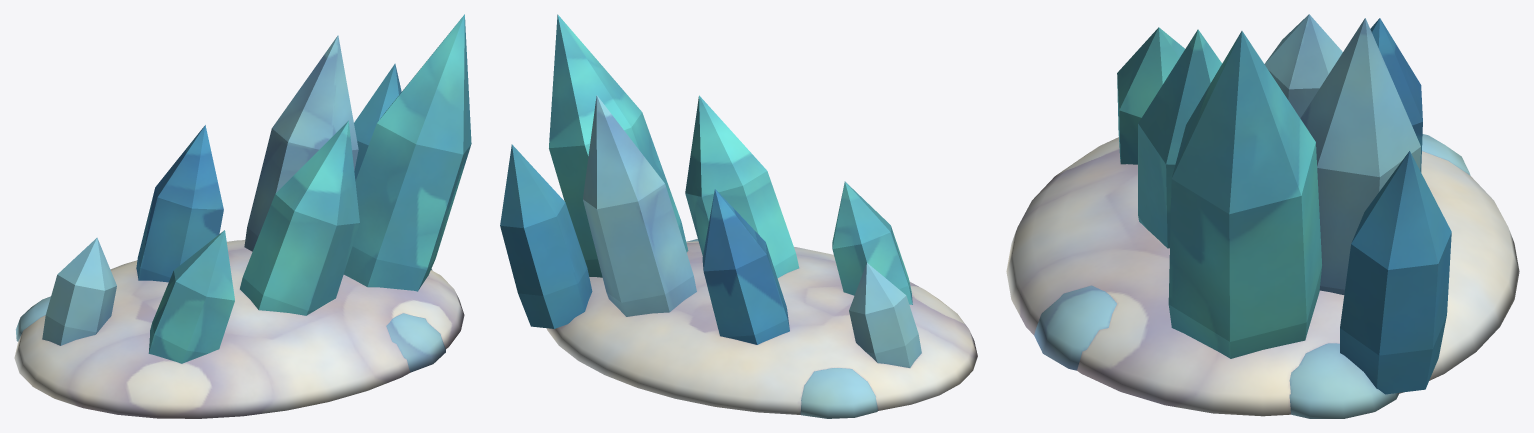
The model's file is FP_FX_FrostWave.fbx.
3 views of the same model, side by side, from view 1: azimuth 30°, elevation 25°; view 2: azimuth 150°, elevation 25°; view 3: azimuth 270°, elevation 25° (orthographic). The views are drawn at different scales.
Parts seen in each view (by area): view 1: FP_FX_FrostWave; view 2: FP_FX_FrostWave; view 3: FP_FX_FrostWave.
Boxes of the visible parts, <box> form: FP_FX_FrostWave: <box>14,14,471,418</box>; FP_FX_FrostWave: <box>500,14,977,418</box>; FP_FX_FrostWave: <box>1006,14,1519,418</box>.
Bounding box in the file's own units: 165 × 102 × 120.
1 material, 1 textured.
